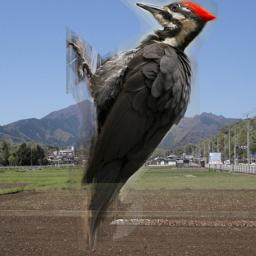Woodpecker: (66, 0, 218, 250)
